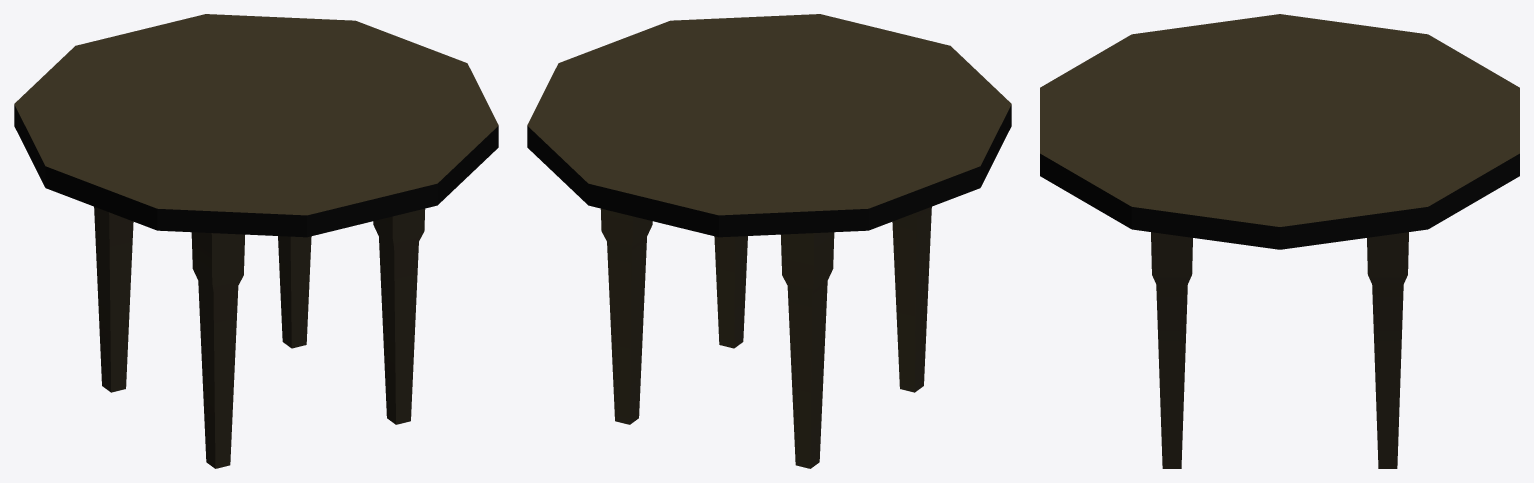
The model's file is obs_med_woodTableB.fbx.
3 renders of one model, left to right at view 1: azimuth 30°, elevation 25°; view 2: azimuth 150°, elevation 25°; view 3: azimuth 270°, elevation 25°, orthographic. The views are drawn at different scales.
Visible parts, largest first — view 1: pCylinder63; view 2: pCylinder63; view 3: pCylinder63.
Part boxes in pixels (bbox=[...]): pCylinder63: bbox=[14, 14, 498, 468]; pCylinder63: bbox=[527, 14, 1011, 468]; pCylinder63: bbox=[1040, 14, 1519, 468].
Size of the model in its own units: 2.34 by 1.53 by 2.22.
